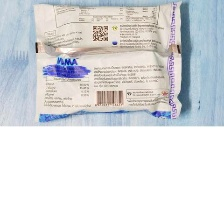snack: (23, 0, 190, 125)
